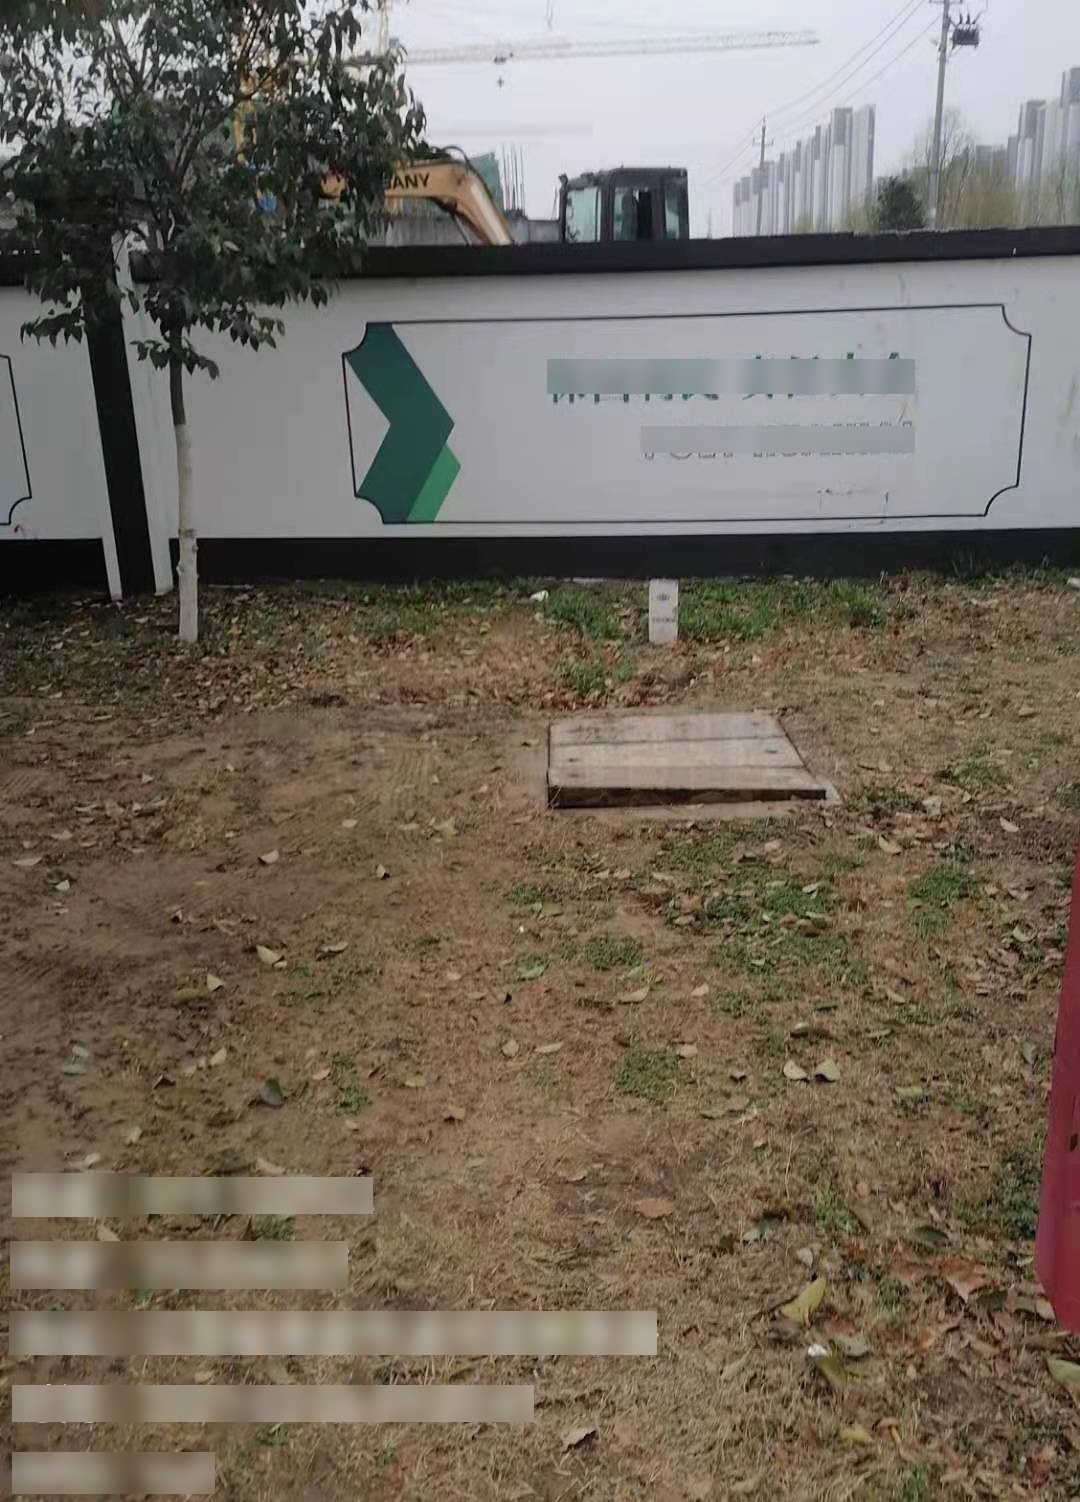uncovered: (538, 703, 840, 822)
